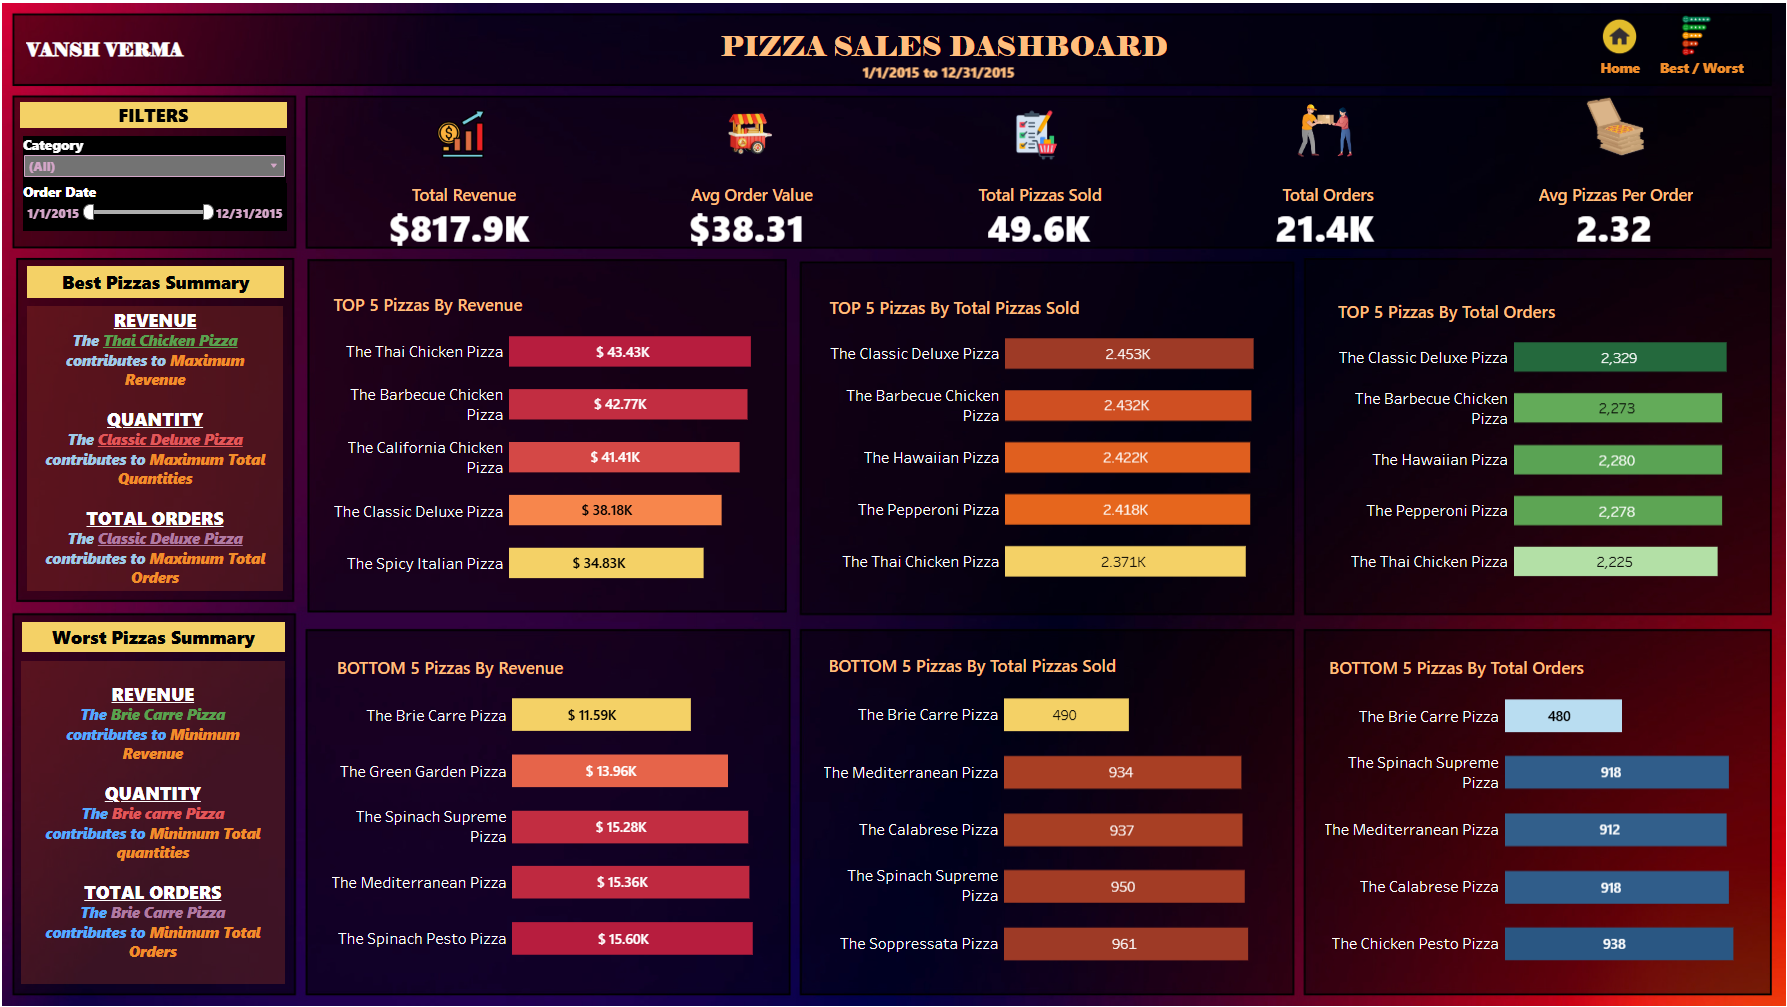

The dashboard page shown, as its layout file describes it:
{"tool":"tableau","page":{"name":"HOME (2)","canvas":[1600,900],"ordinal":1},"visuals":[{"type":"image","param":"Image/background grad fjpg.jpg","box":[0,0,1600,900]},{"type":"dashboard-object","box":[1409,13,66,46]},{"type":"dashboard-object","box":[1487,14,47,38]},{"type":"text","box":[643,22,427,42]},{"type":"text","box":[26,23,275,47]},{"type":"text","box":[1425,46,100,30]},{"type":"text","box":[1478,46,100,30]},{"type":"worksheet","title":"Date Range","mark":"Automatic","box":[704,47,287,38]},{"type":"image","param":"Image/Your paragraph text (1).png","box":[863,59,122,110]},{"type":"image","param":"Image/Your paragraph text (3).png","box":[1381,59,121,129]},{"type":"image","param":"Image/Your paragraph text (2).png","box":[1118,70,125,85]},{"type":"image","param":"Image/Your paragraph text.png","box":[597,90,141,68]},{"type":"text","box":[20,92,238,23]},{"type":"image","param":"Image/8070604.png","box":[391,99,46,43]},{"type":"filter","title":"KPI Banner","param":"[federated.06sdgrd0uq57jm181ji7m0ucxezz].[none:pizza_category:nk]","box":[23,122,234,43]},{"type":"worksheet","title":"KPI Banner","mark":"Automatic","box":[287,144,1280,82]},{"type":"filter","title":"KPI Banner","param":"[federated.06sdgrd0uq57jm181ji7m0ucxezz].[none:order_date:qk]","box":[23,164,235,43]},{"type":"text","box":[27,238,228,28]},{"type":"worksheet","title":"TOP 5 Pizzas By Revenue","mark":"Automatic","rows":["pizza_name"],"cols":["Calculation_413486743082831872"],"box":[295,257,386,269]},{"type":"worksheet","title":"TOP 5 Pizzas By Total Pizzas Sold","mark":"Automatic","rows":["pizza_name"],"cols":["Calculation_413486743083872259"],"box":[736,259,392,264]},{"type":"worksheet","title":"TOP 5 Pizzas By Total Orders","mark":"Automatic","rows":["pizza_name"],"cols":["Calculation_413486743083237377"],"box":[1188,263,359,260]},{"type":"text","box":[27,273,227,254]},{"type":"text","box":[22,554,234,27]},{"type":"worksheet","title":"BOTTOM 5 Pizzas By Total Pizzas Sold","mark":"Automatic","rows":["pizza_name"],"cols":["Calculation_413486743083872259"],"box":[735,578,388,287]},{"type":"worksheet","title":"BOTTOM 5 Pizzas By Revenue (2)","mark":"Automatic","rows":["pizza_name"],"cols":["Calculation_413486743082831872"],"box":[298,579,385,281]},{"type":"worksheet","title":"BOTTOM 5 Pizzas By Total Orders","mark":"Automatic","rows":["pizza_name"],"cols":["Calculation_413486743083237377"],"box":[1180,579,373,286]},{"type":"text","box":[21,589,235,287]}]}

Visuals, with their boxes in screenshot pixels (x1, y1, x2, y2), scaled from the page's 1600x900 canvas onto the 1787x1007 screenshot:
image: bbox(0, 0, 1786, 1006)
dashboard-object: bbox(1574, 15, 1647, 66)
dashboard-object: bbox(1661, 16, 1713, 58)
text: bbox(718, 25, 1195, 72)
text: bbox(29, 26, 336, 78)
text: bbox(1592, 51, 1703, 85)
text: bbox(1651, 51, 1762, 85)
"Date Range" worksheet: bbox(786, 53, 1107, 95)
image: bbox(964, 66, 1100, 189)
image: bbox(1542, 66, 1678, 210)
image: bbox(1249, 78, 1388, 173)
image: bbox(667, 101, 824, 177)
text: bbox(22, 103, 288, 129)
image: bbox(437, 111, 488, 159)
"KPI Banner" filter: bbox(26, 137, 287, 185)
"KPI Banner" worksheet: bbox(321, 161, 1750, 253)
"KPI Banner" filter: bbox(26, 183, 288, 232)
text: bbox(30, 266, 285, 298)
"TOP 5 Pizzas By Revenue" worksheet: bbox(329, 288, 761, 589)
"TOP 5 Pizzas By Total Pizzas Sold" worksheet: bbox(822, 290, 1260, 585)
"TOP 5 Pizzas By Total Orders" worksheet: bbox(1327, 294, 1728, 585)
text: bbox(30, 305, 284, 590)
text: bbox(25, 620, 286, 650)
"BOTTOM 5 Pizzas By Total Pizzas Sold" worksheet: bbox(821, 647, 1254, 968)
"BOTTOM 5 Pizzas By Revenue (2)" worksheet: bbox(333, 648, 763, 962)
"BOTTOM 5 Pizzas By Total Orders" worksheet: bbox(1318, 648, 1735, 968)
text: bbox(23, 659, 286, 980)
